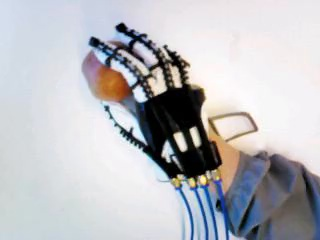apple: (81, 40, 142, 101)
hand: (88, 23, 222, 186)
